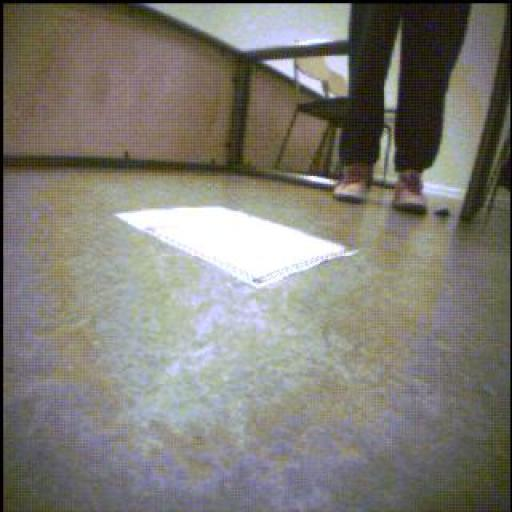Pad: (118, 207, 358, 289)
